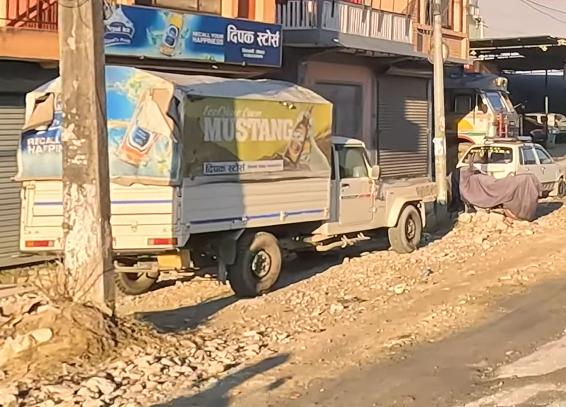taxi: (450, 141, 566, 210)
transport_vehicle: (29, 69, 453, 294)
truck: (441, 55, 524, 166)
